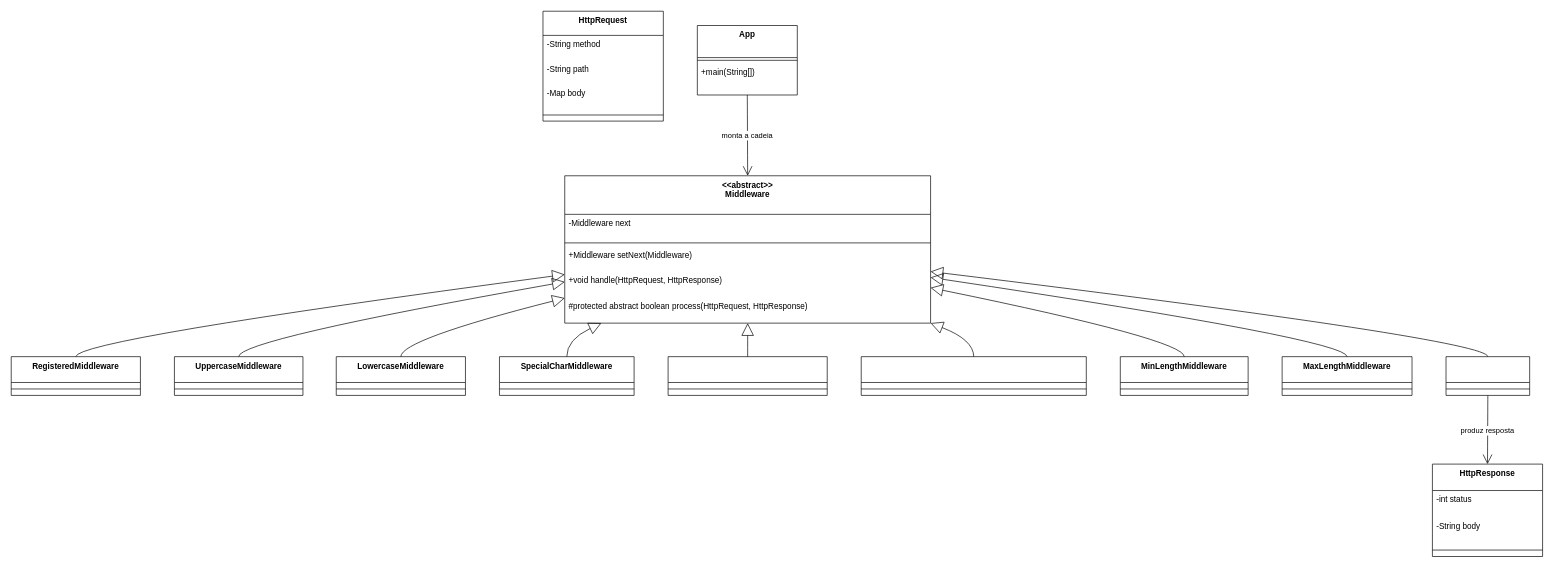
Some shapes in this 1554 by 568 pixel diagram are drawn without their labels. The shapes that lost their labels are listed below. From the top down, each one's centre as x and y in pixels, then its label:
At (747,375): "ContainsNumberMiddleware".
At (973,375): "NoThreeConsecutiveNumbersMiddleware".
At (1487,375): "LoginHandler".
